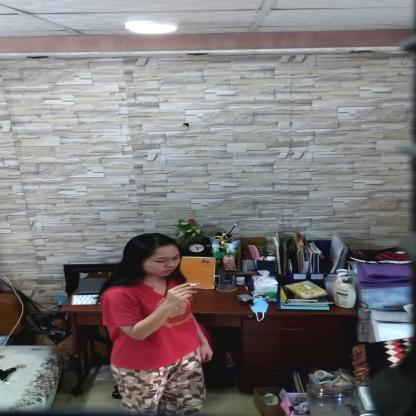cigarette: (188, 283, 202, 287)
person: (99, 233, 217, 416)
